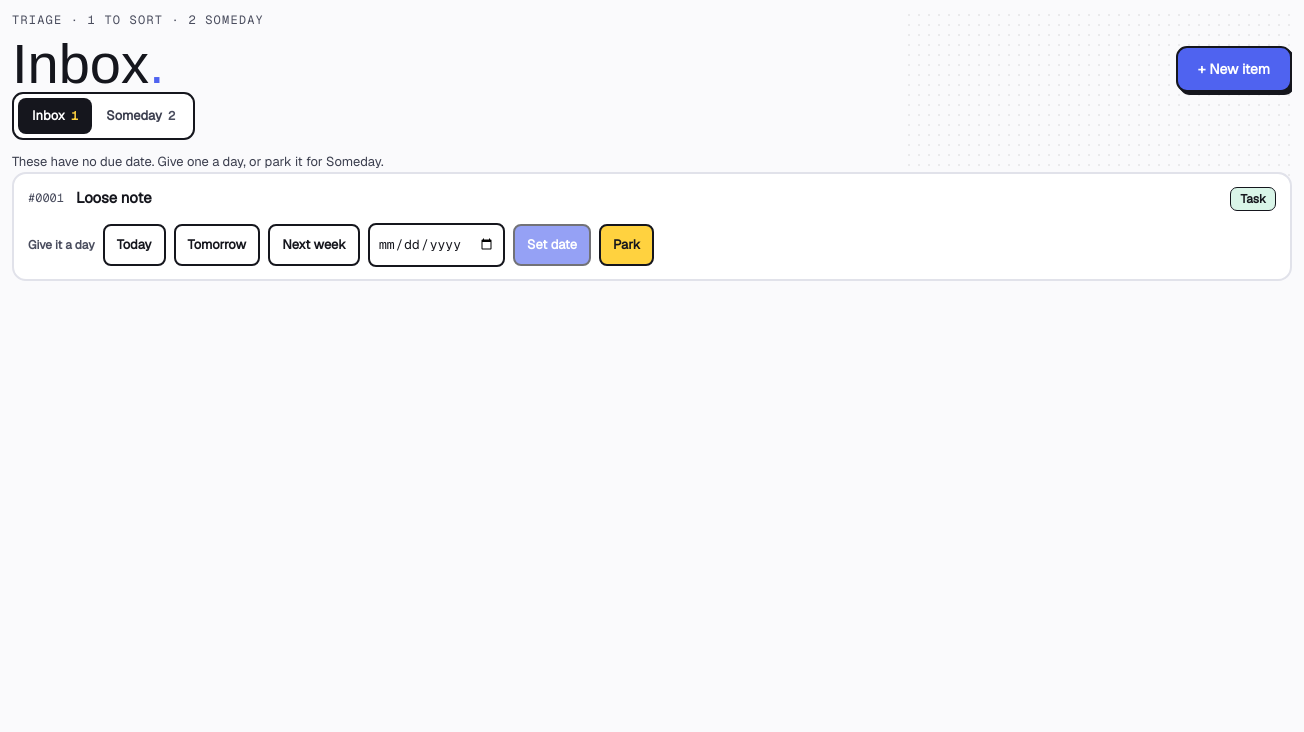
Test: Inbox triage › sets a typed date from the date field
Type "2026-12-01" into the date field named "Due date for Loose note" at [436, 244], box [368, 222, 505, 266]
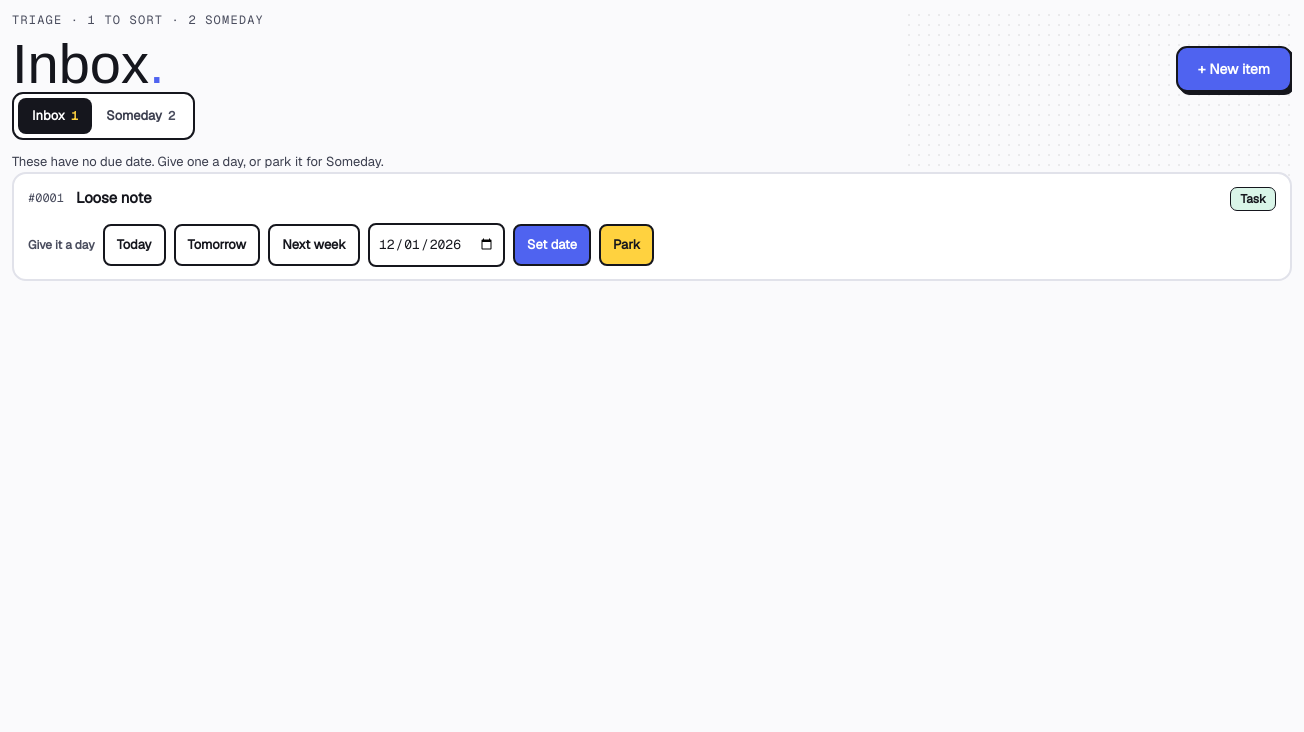
Click the button with aria-label "Set date for Loose note" at [552, 244], box [513, 224, 591, 266]
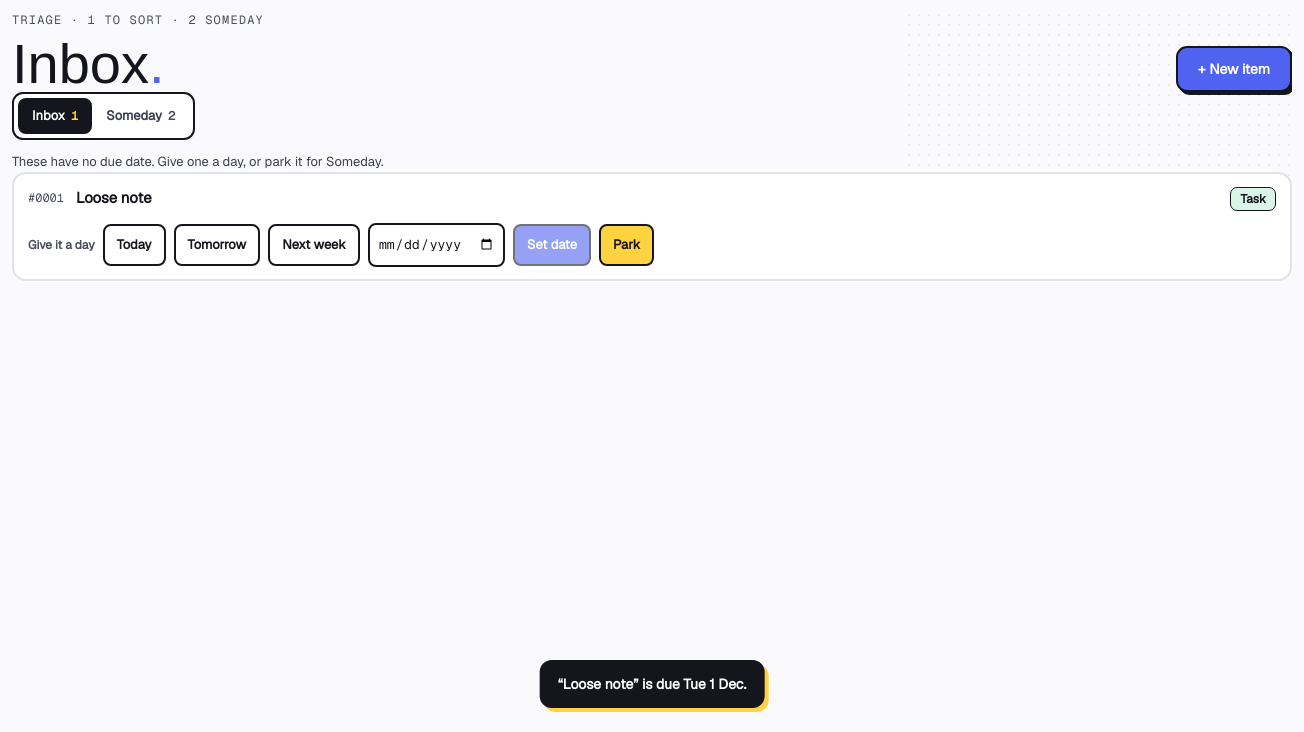
Expected: the text "“Loose note” is due Tue 1 Dec." is shown, [540, 660, 764, 708]
